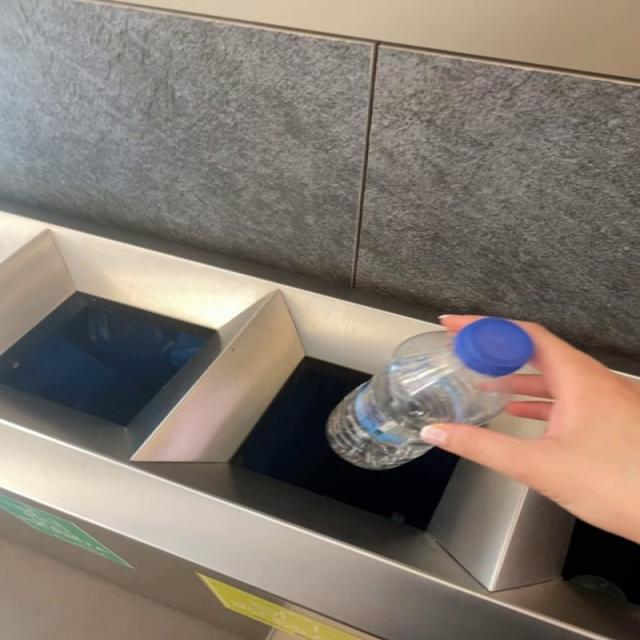plastic: (327, 318, 535, 470)
